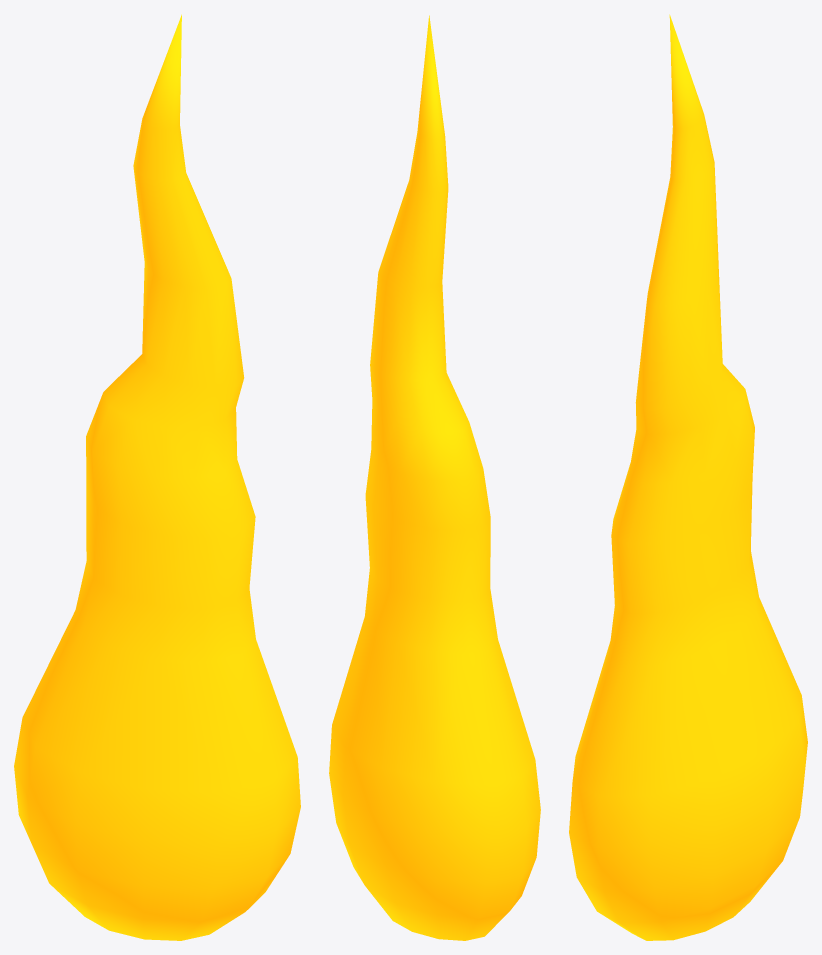
File: pura.glb
3 views of the same model, side by side, from view 1: azimuth 30°, elevation 25°; view 2: azimuth 150°, elevation 25°; view 3: azimuth 270°, elevation 25° (orthographic).
Parts seen in each view (by area): view 1: torche_fire_flame; view 2: torche_fire_flame; view 3: torche_fire_flame.
Part boxes in pixels (x1=…): torche_fire_flame: x1=14, y1=14, x2=300, y2=940; torche_fire_flame: x1=329, y1=15, x2=540, y2=940; torche_fire_flame: x1=569, y1=14, x2=807, y2=940.
Size of the model in its own units: 1.27 by 4.96 by 1.17.
